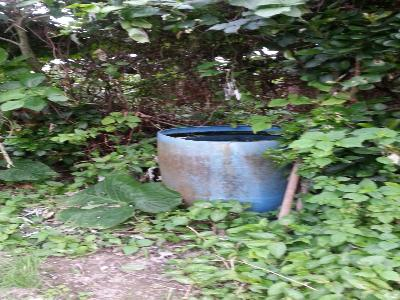bucket: (155, 125, 298, 215)
